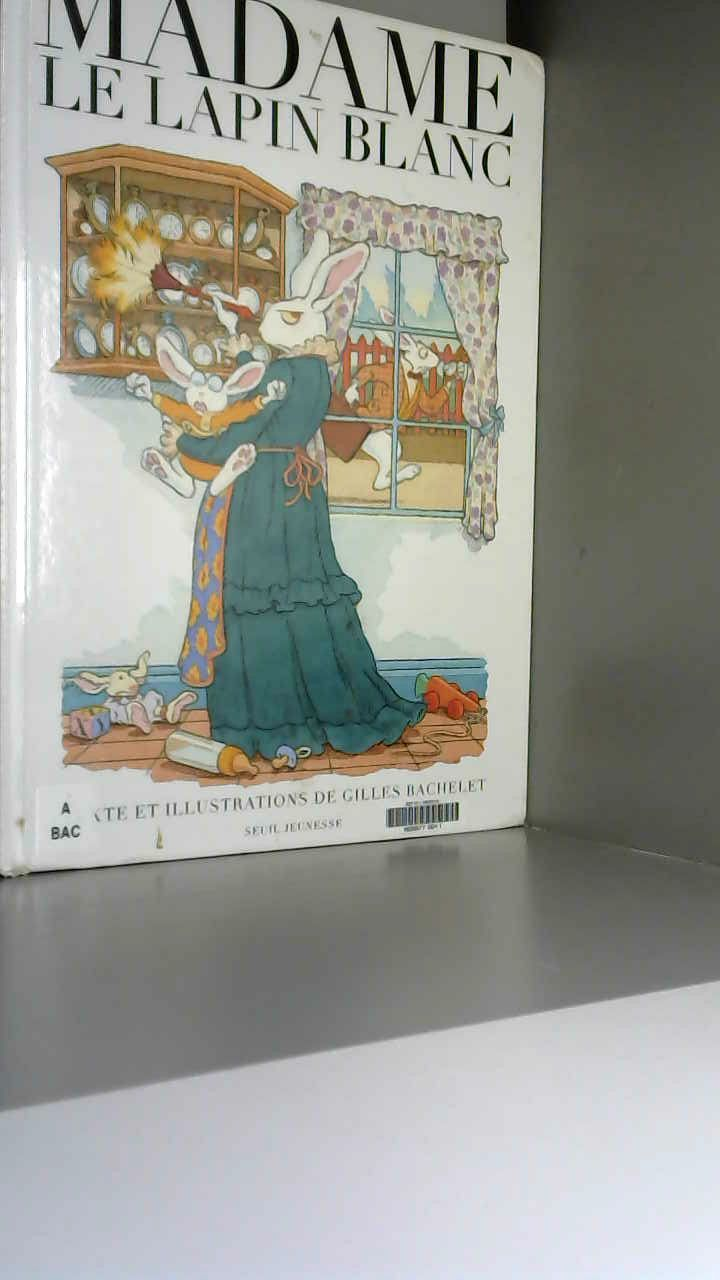book: (0, 0, 583, 924)
